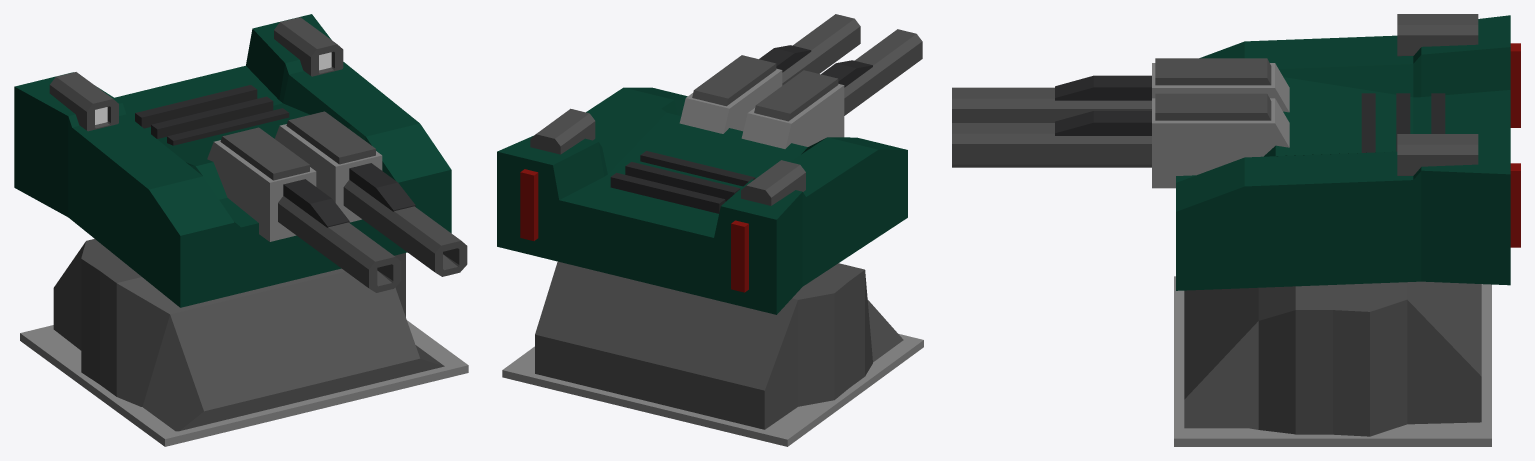
The model's file is Turm 1.fbx.
The picture shows the model from 3 angles, left to right: view 1: azimuth 30°, elevation 25°; view 2: azimuth 150°, elevation 25°; view 3: azimuth 270°, elevation 25°; orthographic projection. The views are drawn at different scales.
Parts seen in each view (by area): view 1: Cube.001, Cube; view 2: Cube.001, Cube; view 3: Cube.001, Cube.
Part boxes in pixels (left/top/right/bottom): Cube.001: left=14, top=14, right=467, bottom=307; Cube: left=20, top=239, right=468, bottom=446; Cube.001: left=497, top=14, right=922, bottom=314; Cube: left=502, top=261, right=923, bottom=446; Cube.001: left=952, top=14, right=1520, bottom=290; Cube: left=1174, top=276, right=1491, bottom=446.
Size of the model in its own units: 368 by 303 by 546.
